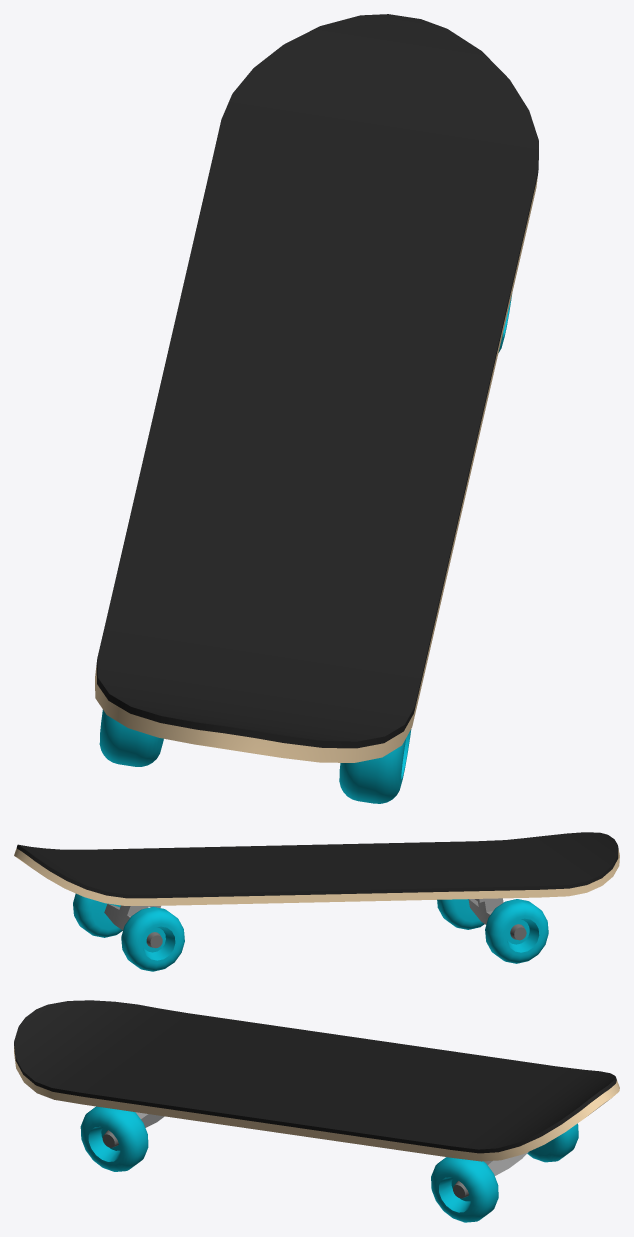
File: skateboard.glb
3 views of the same model, one above another, from view 1: azimuth 30°, elevation 25°; view 2: azimuth 150°, elevation 25°; view 3: azimuth 270°, elevation 25° (orthographic). The views are drawn at different scales.
Visible parts, largest first — view 1: Plane.231; view 2: Plane.231; view 3: Plane.231.
Boxes of the visible parts, x1,y1,x2,y2 form: Plane.231: (95, 14, 538, 803); Plane.231: (14, 832, 619, 971); Plane.231: (14, 1000, 619, 1222).
Size of the model in its own units: 2.19 by 0.9558 by 2.62.
Materials: 1 (1 with a texture image).
